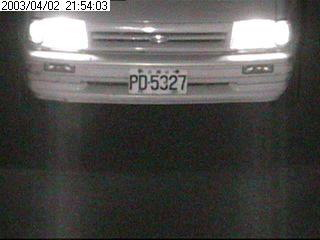plate: (125, 65, 188, 96)
